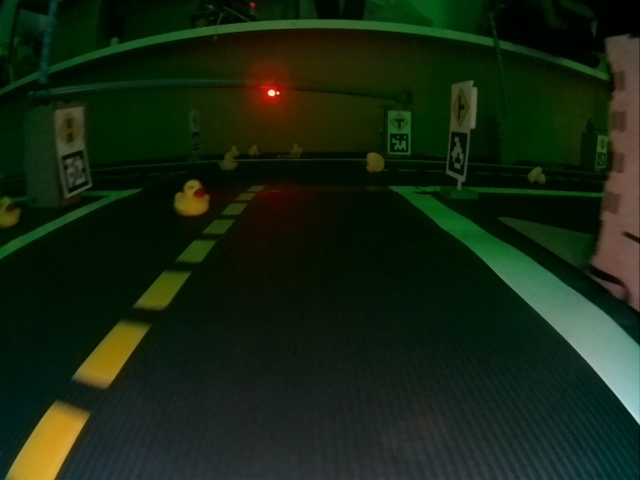Duckie: (175, 180, 210, 215), (0, 199, 18, 227), (366, 153, 384, 172), (219, 154, 237, 170), (528, 167, 544, 183), (291, 144, 300, 155), (248, 145, 257, 155), (229, 146, 237, 154)
Intersection sign: (452, 88, 470, 125), (390, 112, 408, 130), (190, 111, 200, 129)
QR code: (61, 149, 91, 194), (448, 131, 467, 176), (389, 133, 408, 152), (193, 133, 200, 149), (596, 152, 605, 164)
Signal sign: (60, 110, 84, 147), (599, 138, 607, 150)
Traffic light: (267, 85, 280, 99)
